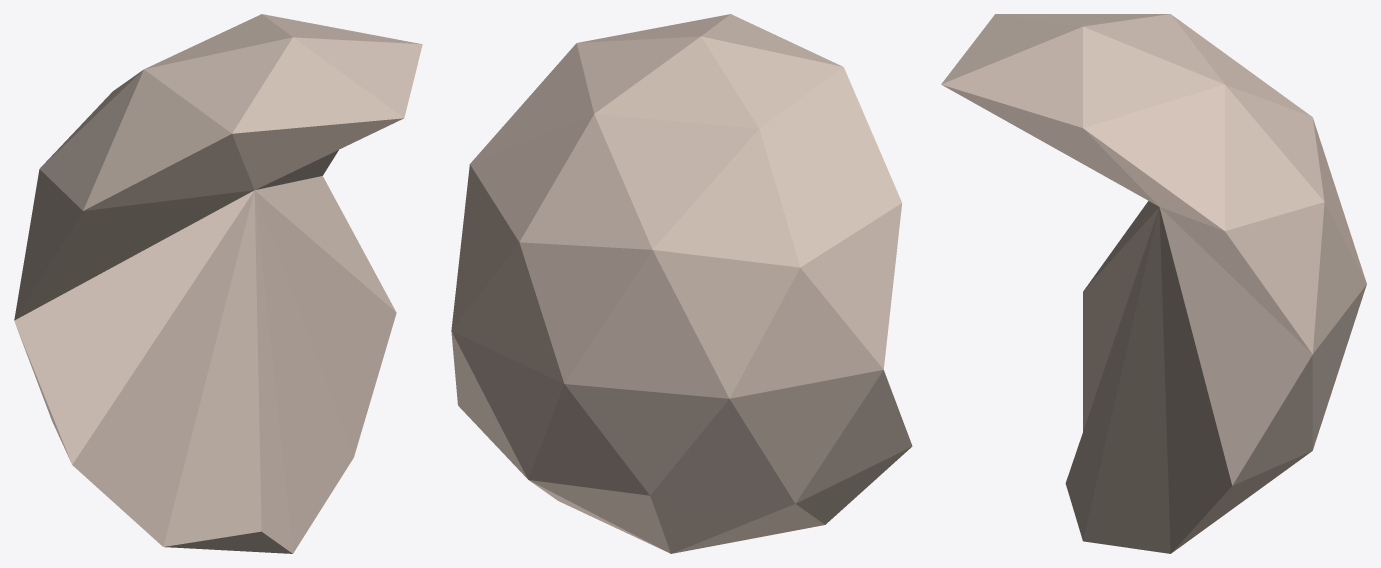
Rendered from World1_Moon.fbx.
3 renders of one model, left to right at view 1: azimuth 30°, elevation 25°; view 2: azimuth 150°, elevation 25°; view 3: azimuth 270°, elevation 25°, orthographic. The views are drawn at different scales.
Visible parts, largest first — view 1: Icosphere; view 2: Icosphere; view 3: Icosphere.
Boxes of the visible parts, x1=… form: Icosphere: x1=14, y1=14, x2=422, y2=553; Icosphere: x1=451, y1=14, x2=912, y2=553; Icosphere: x1=941, y1=14, x2=1366, y2=553.
Size of the model in its own units: 74.55 by 89.03 by 66.77.
